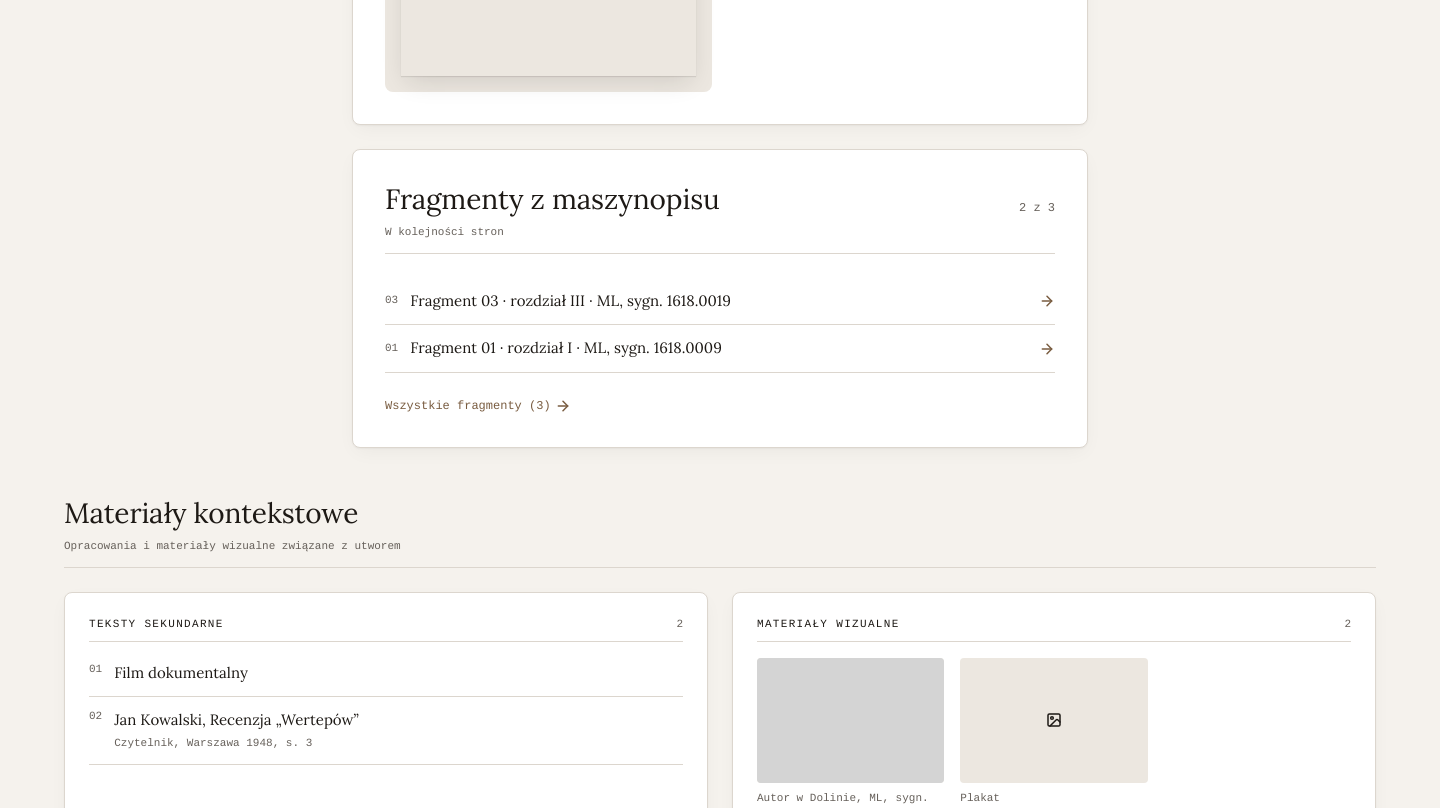
Test case: TypescriptPage › D20: 'Wszystkie fragmenty (3)' expands the list in place, in page order
(page scrolled)
Click the link "Wszystkie fragmenty (3)".
click(478, 406)  # box x1=385 y1=397 x2=571 y2=415
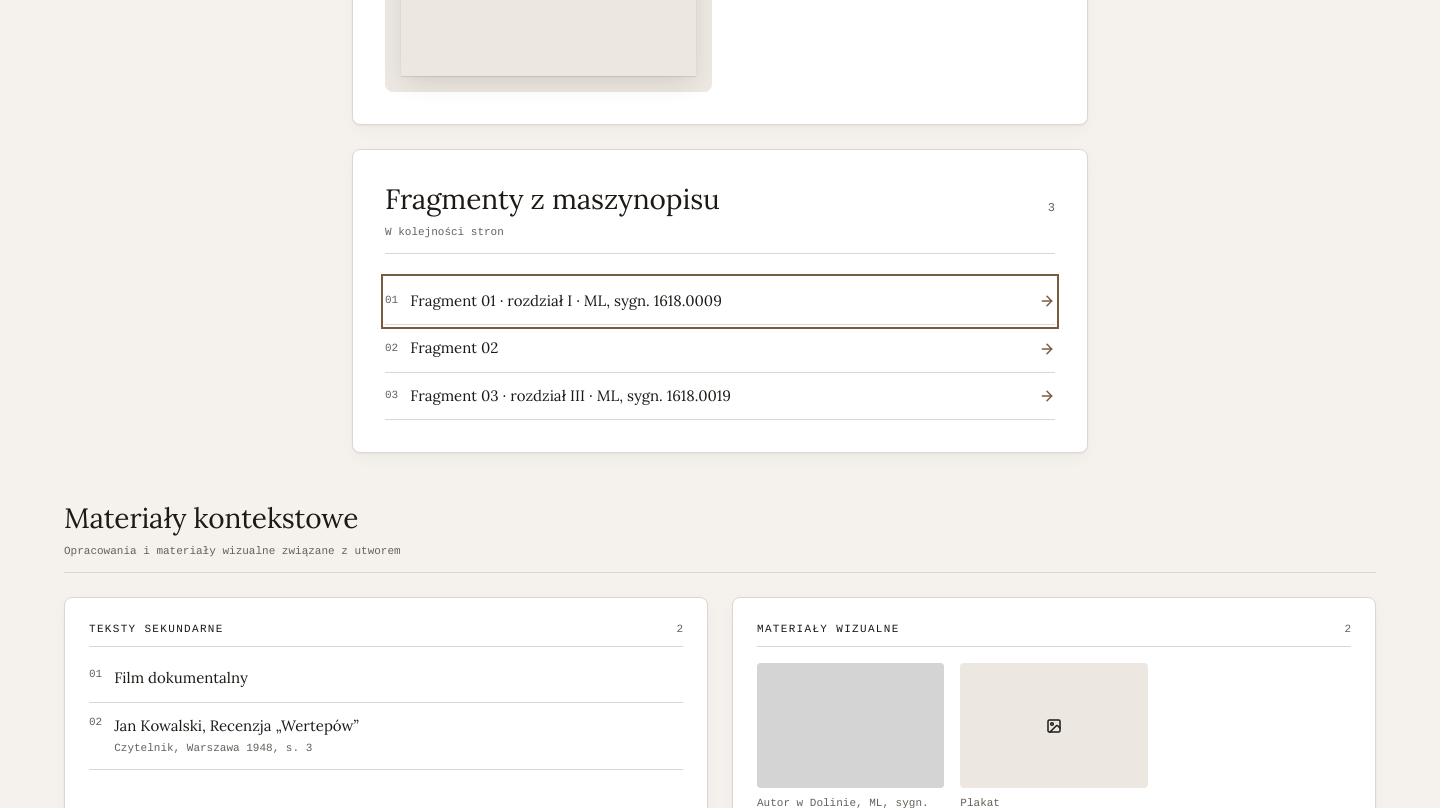
Check: the text "3" is shown, box x1=1048 y1=199 x2=1055 y2=217
Check: the links read "01Fragment 01 · rozdział I · ML, sygn. 1618.0009", "02Fragment 02", "03Fragment 03 · rozdział III · ML, sygn. 1618.0019", in this order, box x1=385 y1=278 x2=1055 y2=325; x1=385 y1=325 x2=1055 y2=373; x1=385 y1=373 x2=1055 y2=420
